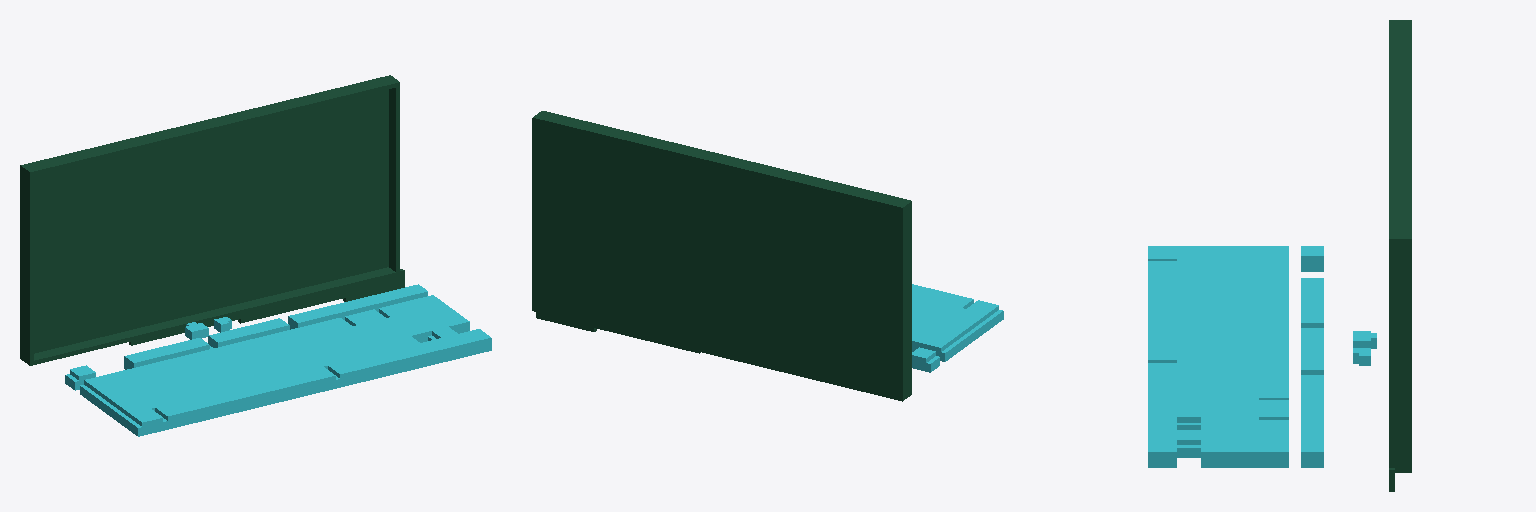
robot.urdf — physxnet_10157_strict:
<?xml version='1.0' encoding='utf-8'?>
<robot name="physxnet_10157_strict">
  <link name="l_world">
    <inertial>
      <origin xyz="0 0 0" rpy="0 0 0" />
      <mass value="0.0100000000" />
      <inertia ixx="0.0000001667" ixy="0.0" ixz="0.0" iyy="0.0000001667" iyz="0.0" izz="0.0000001667" />
    </inertial>
  </link><link name="l_0">
    <inertial>
      <origin xyz="-0.0008662590 0.0874503875 0.0068305111" rpy="0 0 0" />
      <mass value="0.0231811465" />
      <inertia ixx="0.0000562752" ixy="0.0" ixz="0.0" iyy="0.0002903694" iyz="0.0" izz="0.0002345136" />
    </inertial><visual>
      <origin xyz="0 0 0" rpy="0 0 0" />
      <geometry>
        <mesh filename="../rigid_visuals/part_000_visual.obj" scale="1 1 1" />
      </geometry><material name="mat_l_0">
        <color rgba="0.32548 0.48041 0.93131 1.00000" />
      </material>
    </visual><collision>
      <origin xyz="0 0 0" rpy="0 0 0" />
      <geometry>
        <mesh filename="part_000_collision.obj" scale="1 1 1" />
      </geometry>
    </collision>
  </link><joint name="joint_fixed_l_world_l_0" type="fixed">
    <parent link="l_world" />
    <child link="l_0" />
    <origin xyz="0 0 0" rpy="0 0 0" />
  </joint><link name="l_1">
    <inertial>
      <origin xyz="0.0000000000 0.0857138377 0.0000000000" rpy="0 0 0" />
      <mass value="0.0161055009" />
      <inertia ixx="0.0000457090" ixy="0.0" ixz="0.0" iyy="0.0002098603" iyz="0.0" izz="0.0001646693" />
    </inertial><visual>
      <origin xyz="0 0 0" rpy="0 0 0" />
      <geometry>
        <mesh filename="../rigid_visuals/part_001_visual.obj" scale="1 1 1" />
      </geometry><material name="mat_l_1">
        <color rgba="0.15447 0.35718 0.26453 1.00000" />
      </material>
    </visual><collision>
      <origin xyz="0 0 0" rpy="0 0 0" />
      <geometry>
        <mesh filename="part_001_collision.obj" scale="1 1 1" />
      </geometry>
    </collision>
  </link><joint name="joint_fixed_l_0_l_1" type="fixed">
    <parent link="l_0" />
    <child link="l_1" />
    <origin xyz="0 0 0" rpy="0 0 0" />
  </joint><link name="l_2">
    <inertial>
      <origin xyz="-0.0015498589 -0.0096968373 -0.0753934283" rpy="0 0 0" />
      <mass value="0.0063300955" />
      <inertia ixx="0.0000122032" ixy="0.0" ixz="0.0" iyy="0.0000582461" iyz="0.0" izz="0.0000703981" />
    </inertial><visual>
      <origin xyz="0 0 0" rpy="0 0 0" />
      <geometry>
        <mesh filename="../rigid_visuals/part_002_visual.obj" scale="1 1 1" />
      </geometry><material name="mat_l_2">
        <color rgba="0.29417 0.82410 0.87988 1.00000" />
      </material>
    </visual><collision>
      <origin xyz="0 0 0" rpy="0 0 0" />
      <geometry>
        <mesh filename="part_002_collision.obj" scale="1 1 1" />
      </geometry>
    </collision>
  </link><joint name="joint_fixed_l_1_l_2" type="fixed">
    <parent link="l_1" />
    <child link="l_2" />
    <origin xyz="0 0 0" rpy="0 0 0" />
  </joint><link name="l_3">
    <inertial>
      <origin xyz="0.0000000000 -0.0069459750 -0.0851806433" rpy="0 0 0" />
      <mass value="0.0147538269" />
      <inertia ixx="0.0000363609" ixy="0.0" ixz="0.0" iyy="0.0001508414" iyz="0.0" izz="0.0001867434" />
    </inertial><visual>
      <origin xyz="0 0 0" rpy="0 0 0" />
      <geometry>
        <mesh filename="../rigid_visuals/part_003_visual.obj" scale="1 1 1" />
      </geometry><material name="mat_l_3">
        <color rgba="0.55944 0.19916 0.68114 1.00000" />
      </material>
    </visual><collision>
      <origin xyz="0 0 0" rpy="0 0 0" />
      <geometry>
        <mesh filename="part_003_collision.obj" scale="1 1 1" />
      </geometry>
    </collision>
  </link><joint name="joint_fixed_l_2_l_3" type="fixed">
    <parent link="l_2" />
    <child link="l_3" />
    <origin xyz="0 0 0" rpy="0 0 0" />
  </joint>
</robot>

--- Render facts (derived) ---
The picture shows the robot from 3 angles, left to right: view 1: azimuth 30°, elevation 25°; view 2: azimuth 150°, elevation 25°; view 3: azimuth 270°, elevation 25°; orthographic projection.
Model physxnet_10157_strict with 5 links and 4 joints (4 fixed), rooted at l_world, posed every joint at zero.
Links seen in each view (by area): view 1: l_1, l_2; view 2: l_1, l_2; view 3: l_2, l_1.
Link boxes in pixels (x1,y1,x2,y2): l_1: (20, 75, 404, 365); l_2: (65, 284, 491, 436); l_1: (532, 111, 911, 401); l_2: (912, 284, 1003, 372); l_2: (1148, 246, 1376, 467); l_1: (1389, 20, 1411, 491).
Size in the robot's own frame: 0.356 by 0.18 by 0.188 metres.
Meshes: 4 distinct files referenced, 2 mesh visuals loaded (2 OBJ); not drawn: 2 (reference not matched to a file when rendering).
